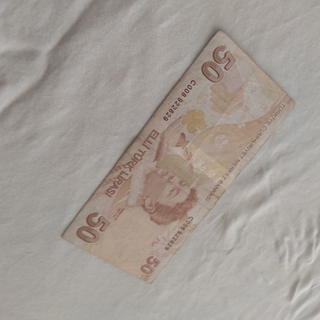50TLBack: (60, 30, 295, 284)
